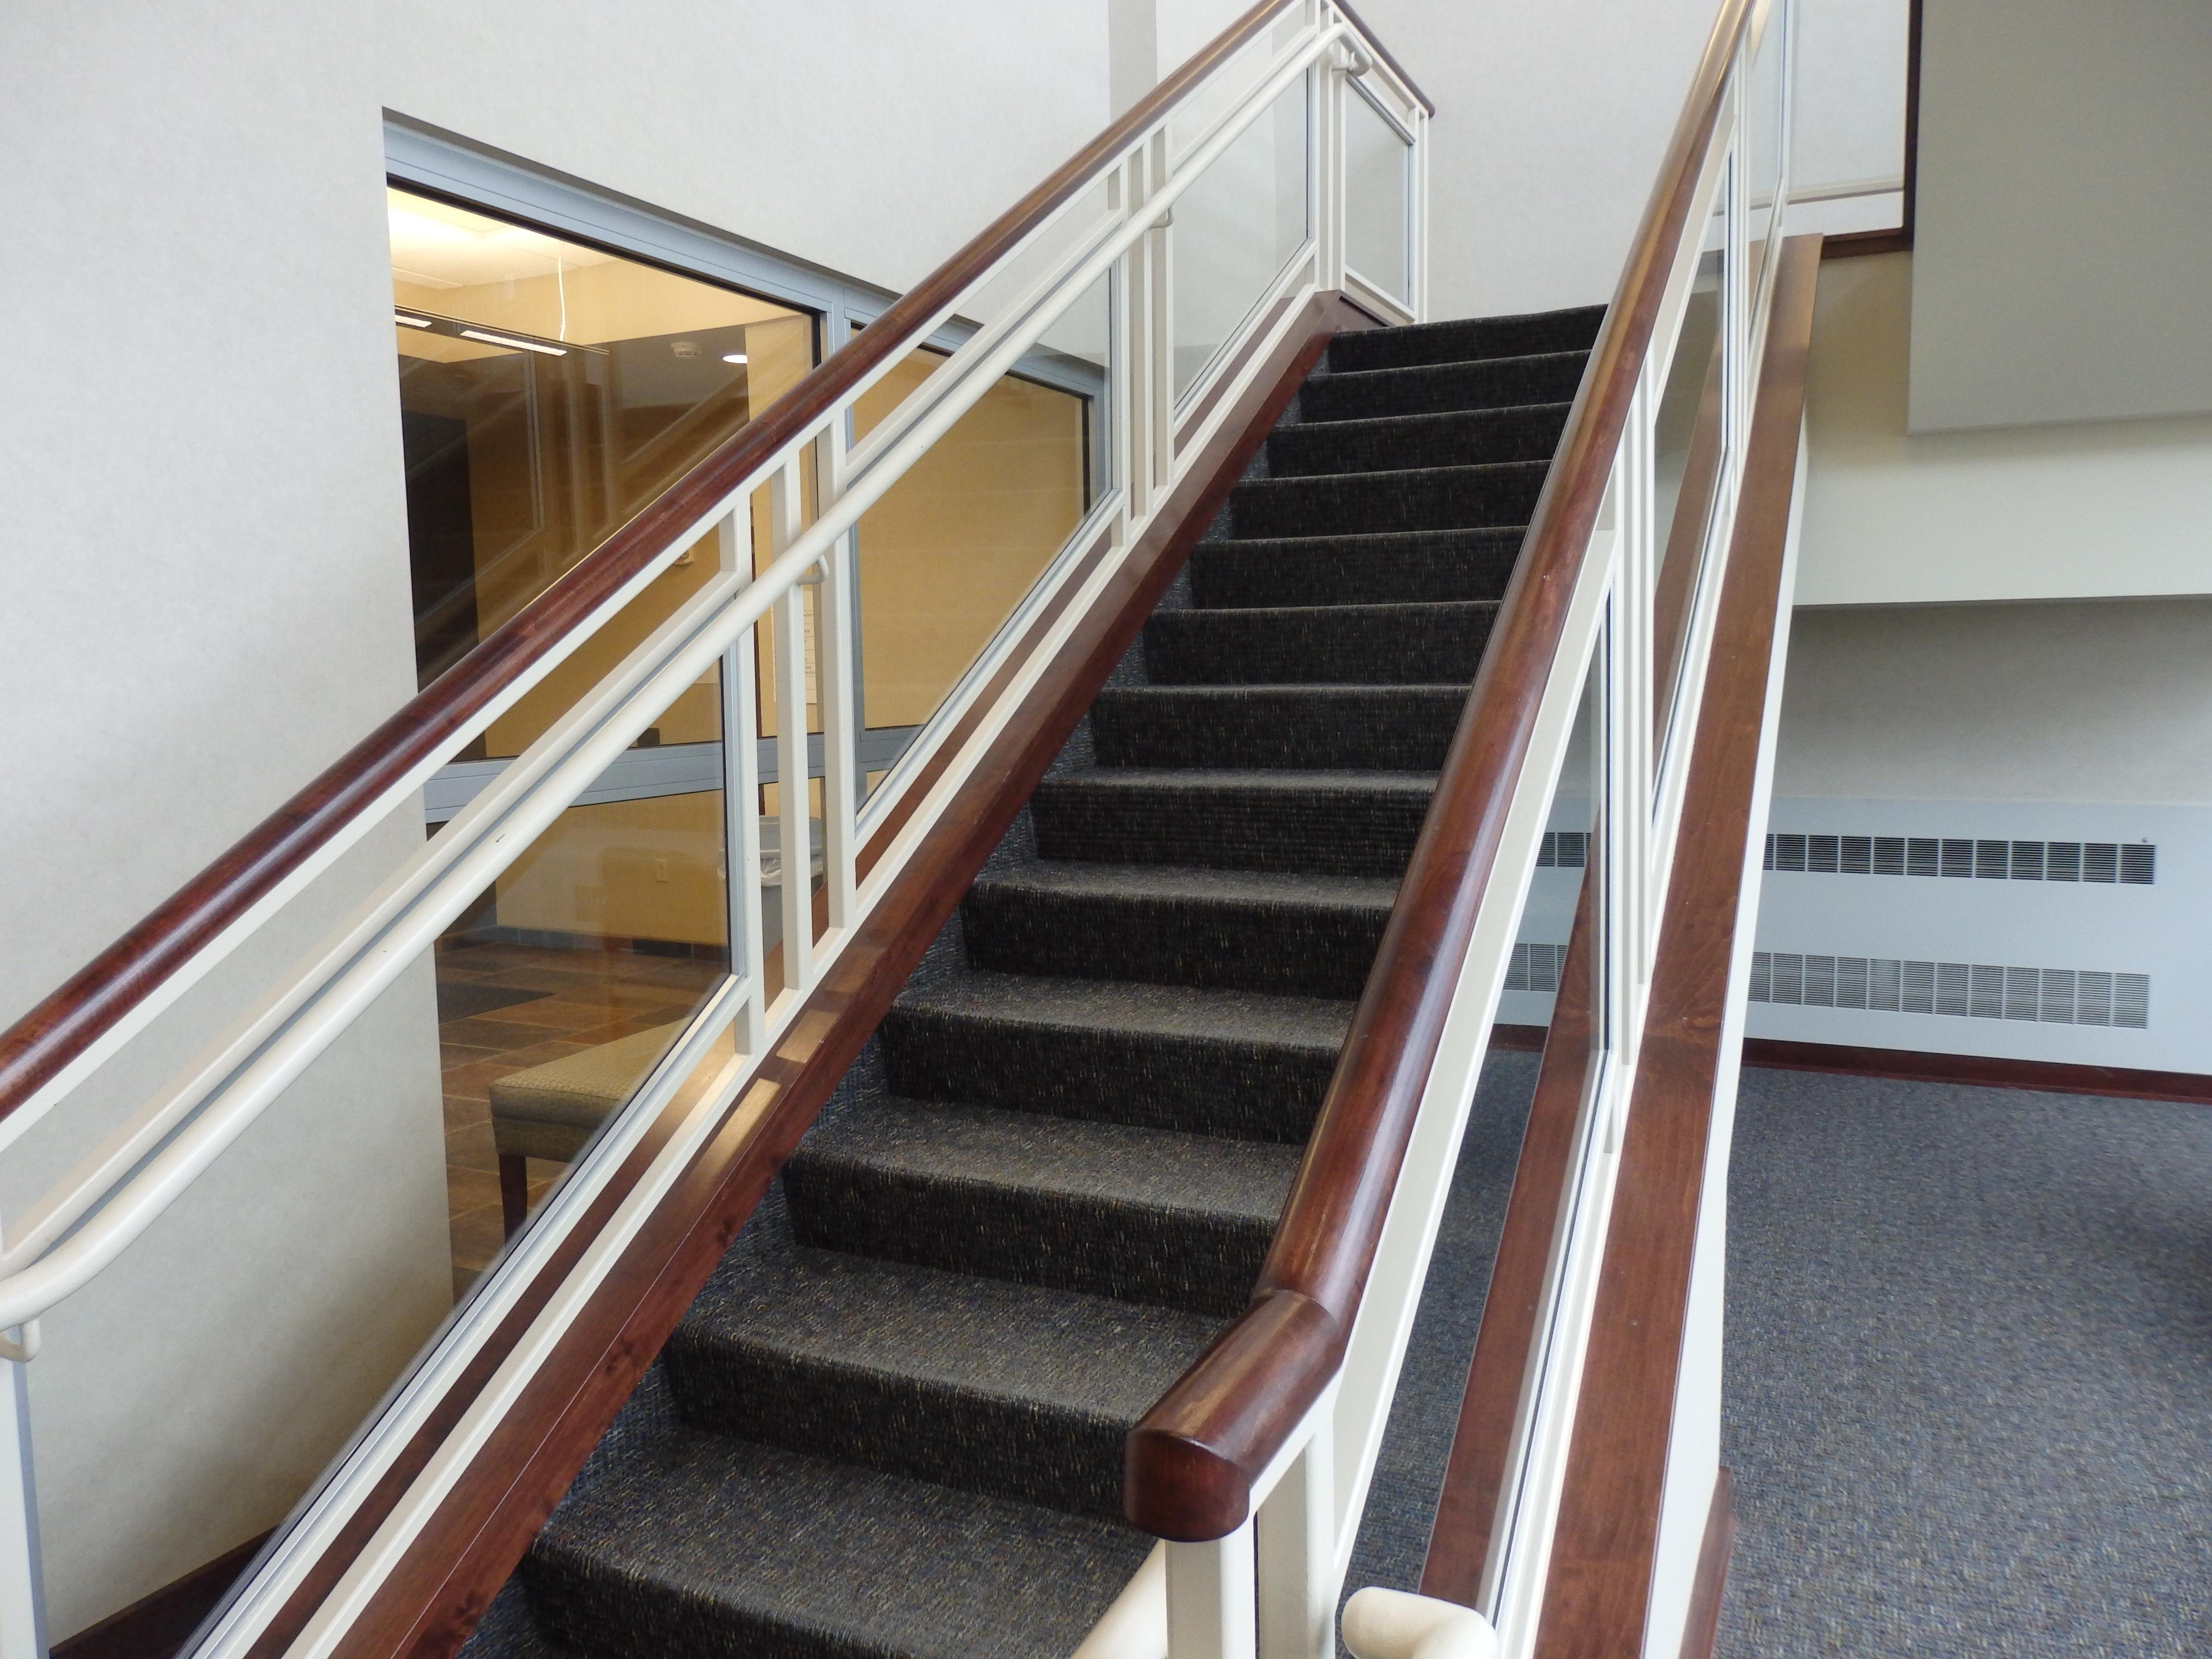stairs_up: (563, 307, 1750, 1659)
